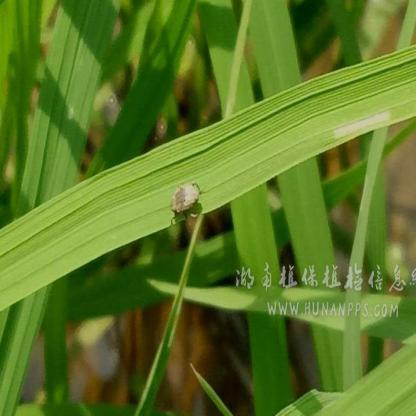rice-bug: (172, 178, 203, 222)
